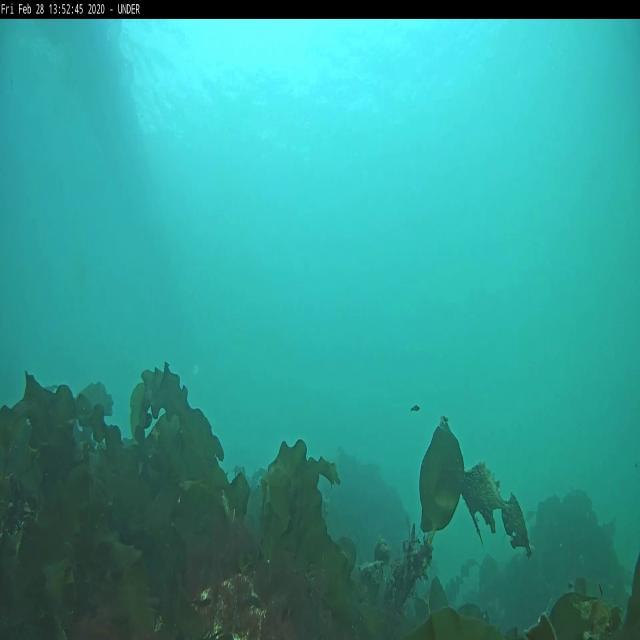fish: (410, 404, 420, 414)
